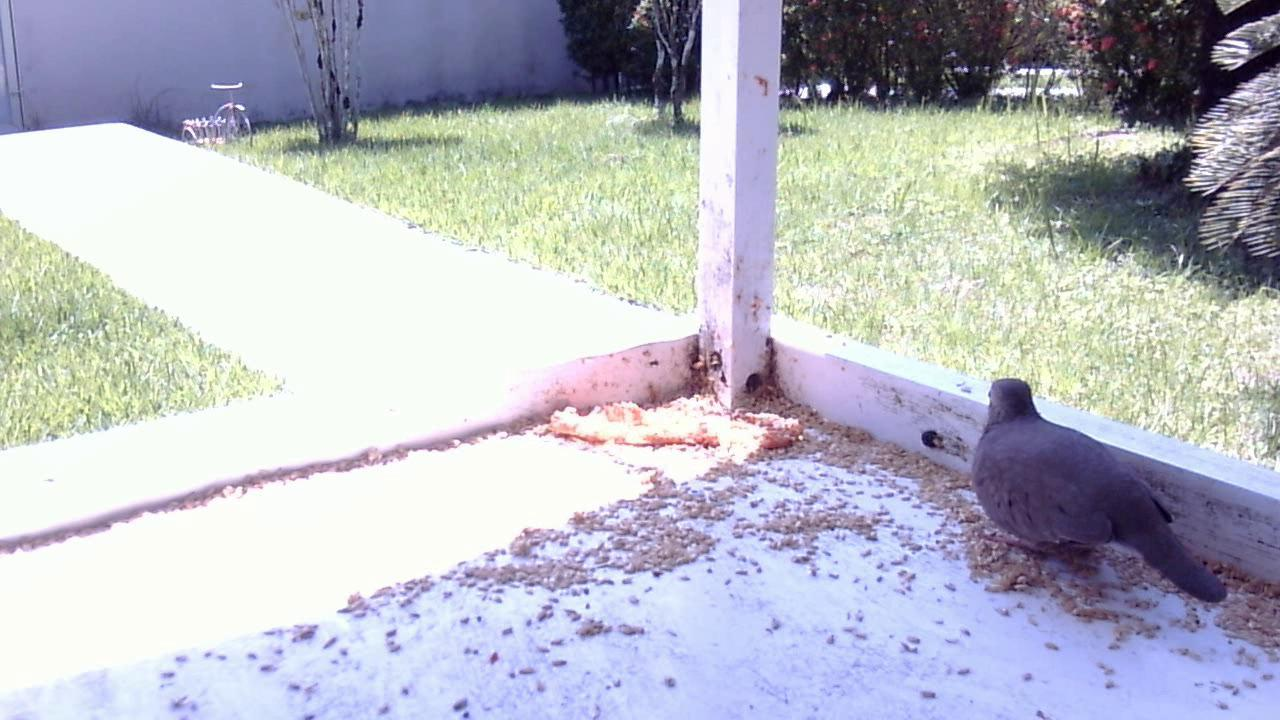rolinha: (941, 371, 1235, 619)
